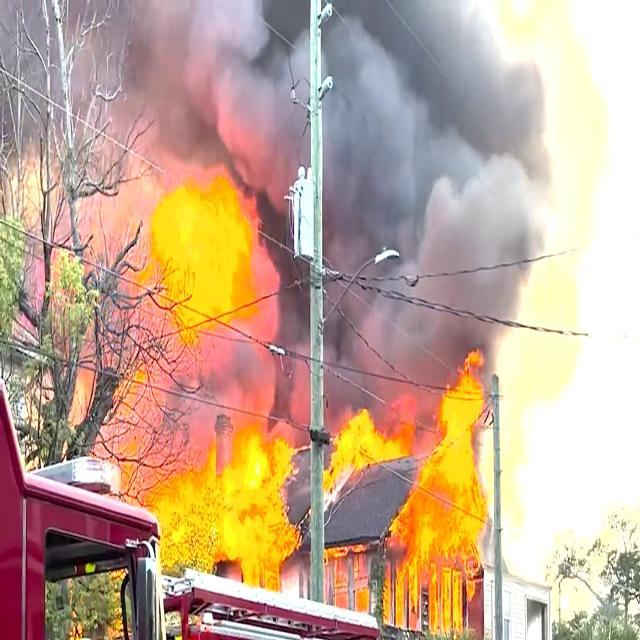Fire: (324, 409, 476, 616), (160, 205, 244, 373), (154, 447, 266, 563)
Smoke: (164, 0, 510, 176), (312, 206, 530, 370)
